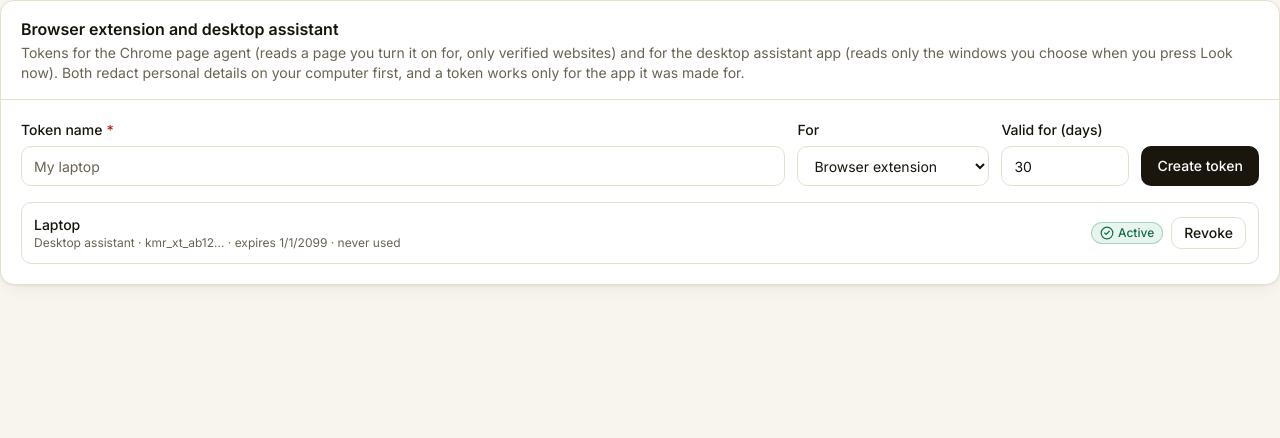
ExtensionTokensCard › can create a token for the desktop assistant, and says which app each token is for
Expected: the text "Desktop assistant · kmr_xt_ab12" is shown, [34,235,401,251]
In the field labelled "Token name*": x=403, y=166 [21,146,785,186], type "Laptop app"
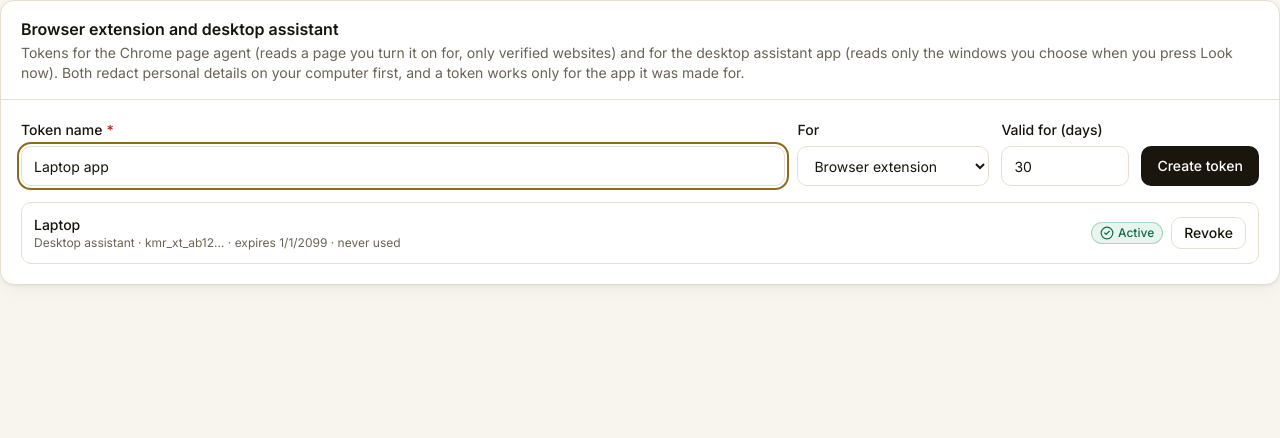
Select "Desktop assistant" in the dropdown labelled "For": x=893, y=166 [797,146,989,186]
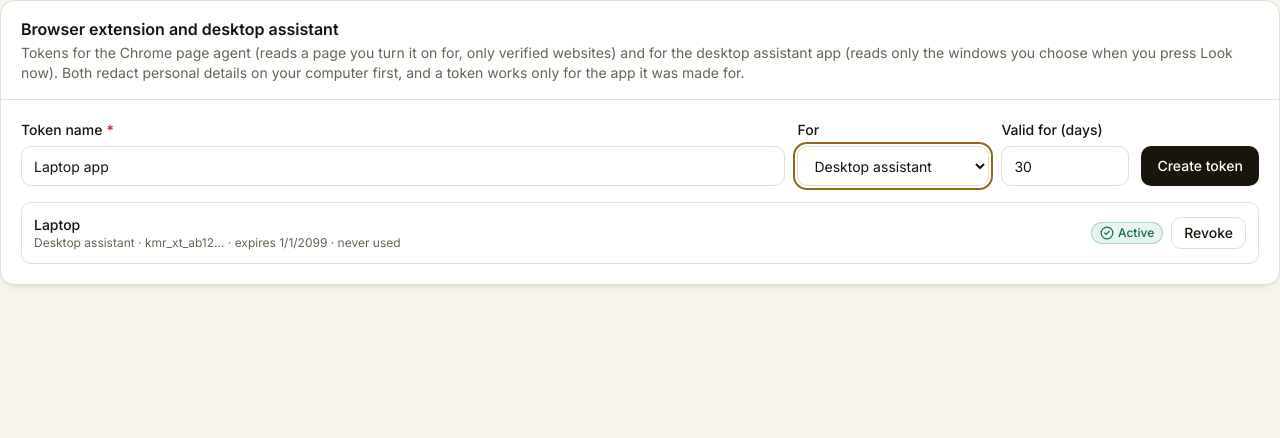
Click the button "Create token": x=1200, y=166 [1141,146,1259,186]
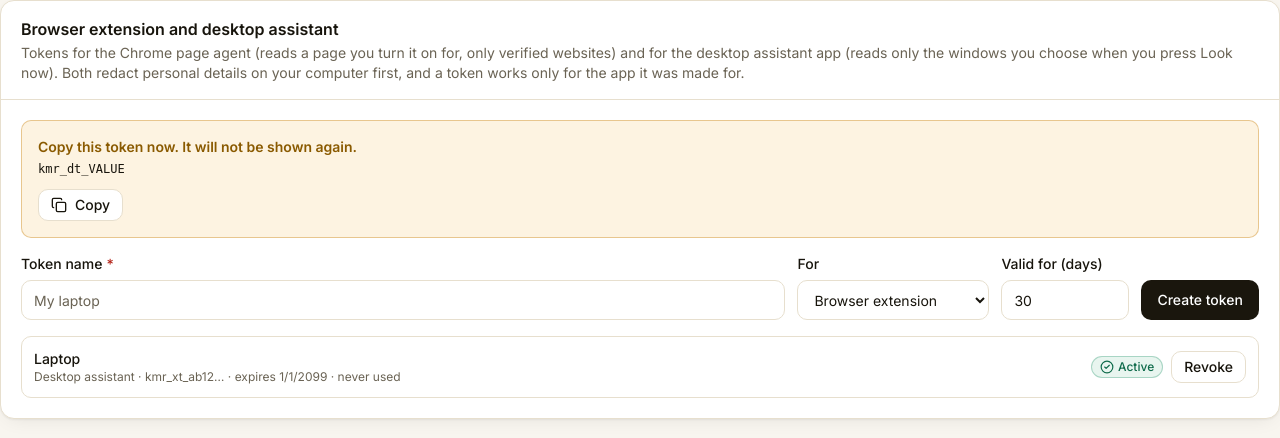
Result: the text "kmr_dt_VALUE" is shown at [38,162,125,176]
